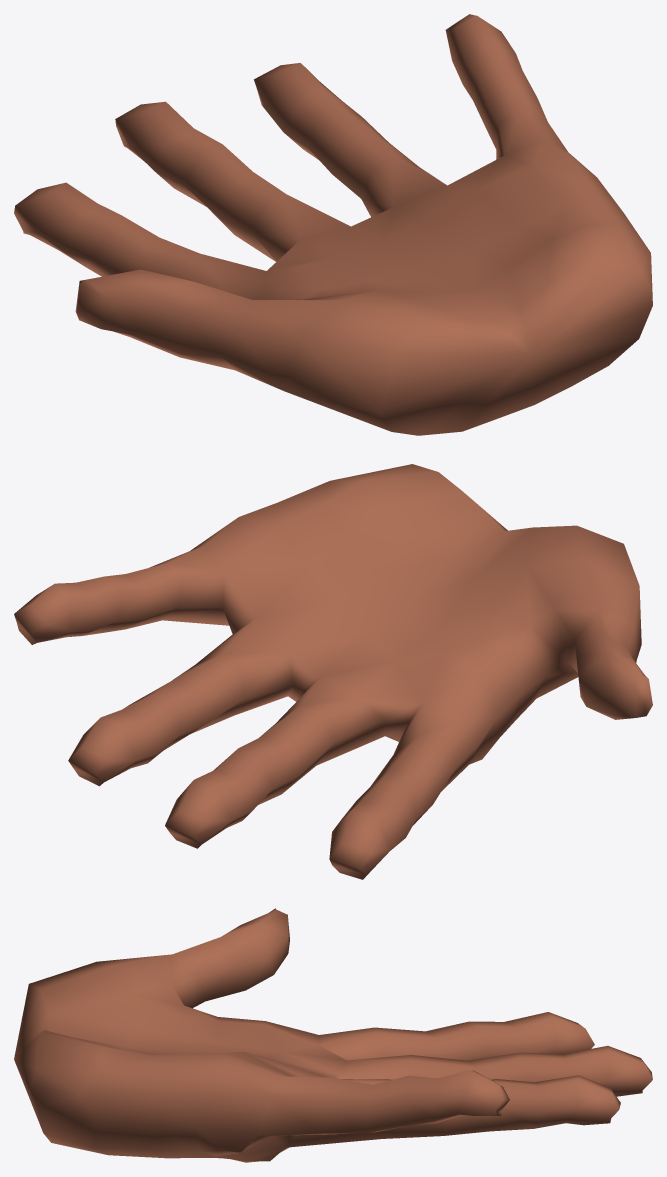
The model's file is hand_left.dae.
The picture shows the model from 3 angles, top to bottom: view 1: azimuth 30°, elevation 25°; view 2: azimuth 150°, elevation 25°; view 3: azimuth 270°, elevation 25°; orthographic projection. The views are drawn at different scales.
Visible parts, largest first — view 1: base_hand_o; view 2: base_hand_o; view 3: base_hand_o.
Part boxes in pixels (<box>): base_hand_o: <box>14,14,652,435</box>; base_hand_o: <box>14,464,652,879</box>; base_hand_o: <box>14,908,652,1162</box>.
Size of the model in its own units: 1.53 by 1.84 by 0.5376.
